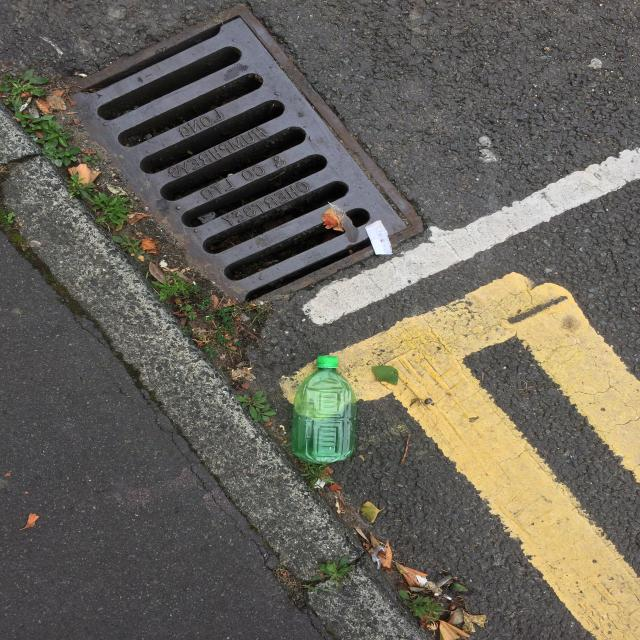plastic: (284, 350, 366, 468)
